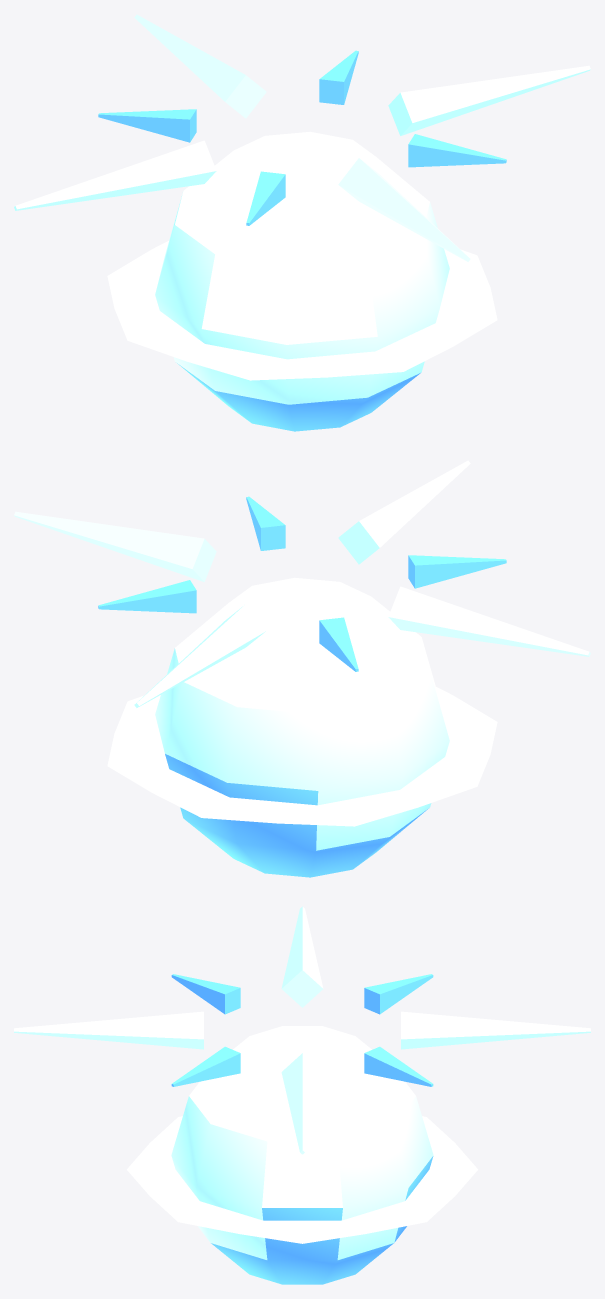
The model's file is blue_giant.glb.
The picture shows the model from 3 angles, top to bottom: view 1: azimuth 30°, elevation 25°; view 2: azimuth 150°, elevation 25°; view 3: azimuth 270°, elevation 25°; orthographic projection. The views are drawn at different scales.
Parts seen in each view (by area): view 1: body; view 2: body; view 3: body.
Part boxes in pixels (x1=…): body: x1=14, y1=14, x2=590, y2=431; body: x1=14, y1=460, x2=590, y2=877; body: x1=14, y1=906, x2=590, y2=1284.
Bounding box in the file's own units: 238 × 119 × 238.
